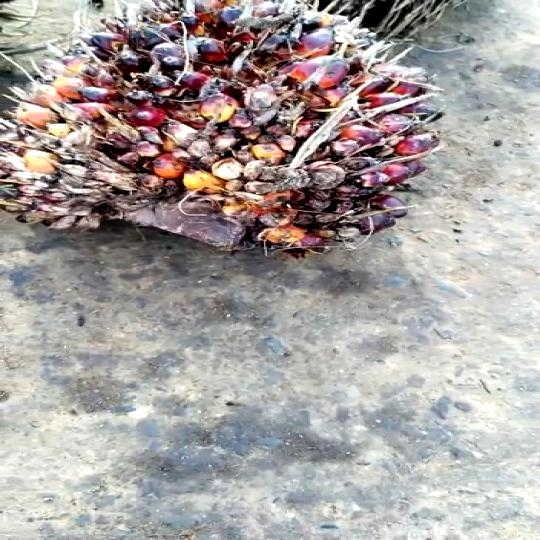masak: (0, 0, 440, 259)
